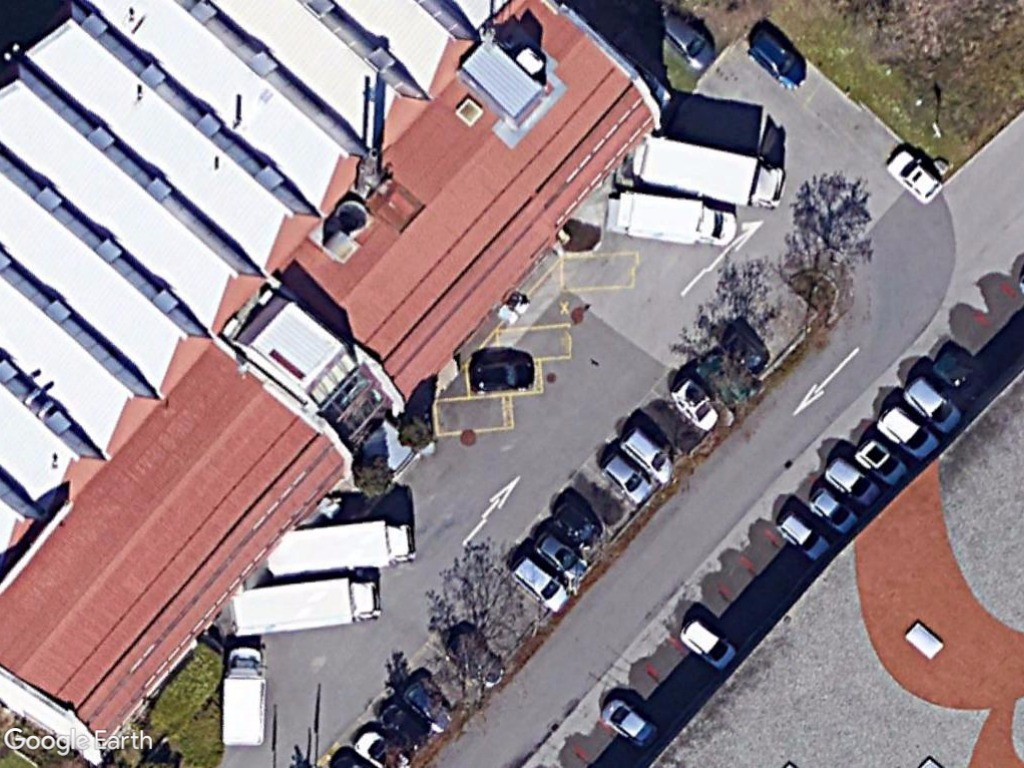car: (881, 143, 947, 211), (745, 27, 812, 91), (597, 698, 672, 754), (902, 372, 965, 436), (874, 407, 942, 466), (619, 426, 683, 488), (506, 556, 572, 615), (822, 452, 887, 511), (775, 507, 839, 566), (678, 617, 741, 672), (848, 433, 913, 486), (802, 478, 863, 534), (465, 352, 538, 397), (665, 376, 720, 434), (599, 452, 654, 507)
truck: (633, 133, 790, 215), (226, 572, 383, 646), (262, 512, 416, 576), (604, 182, 741, 249), (217, 643, 275, 750)
